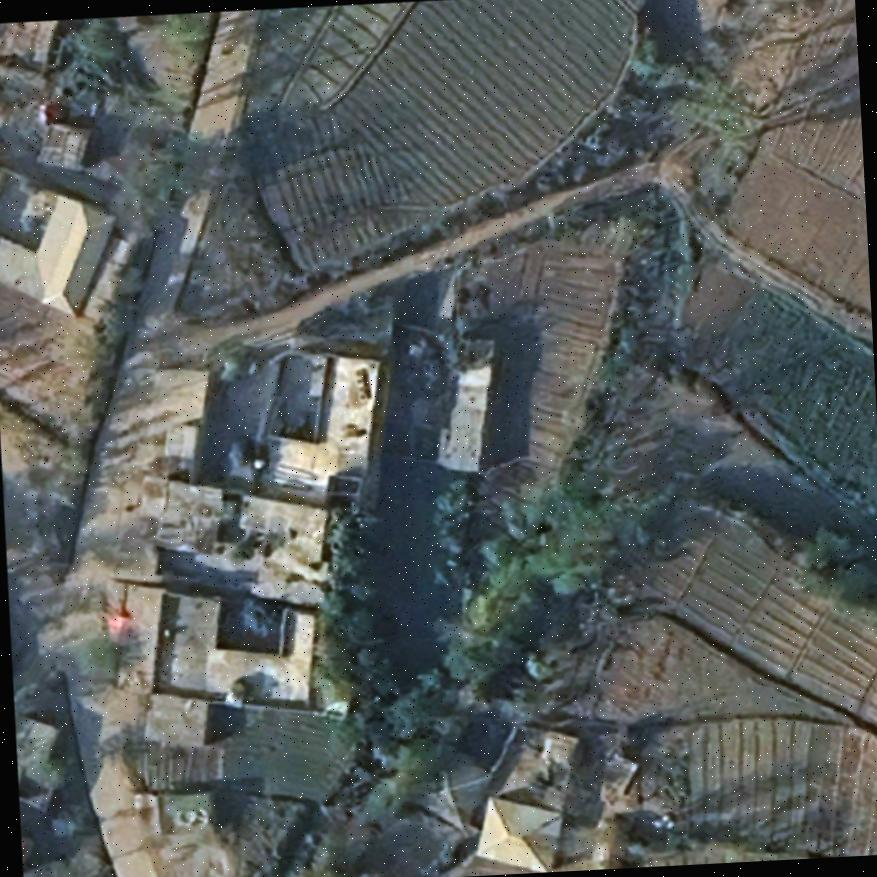Solarpanel: (352, 365, 372, 403)
